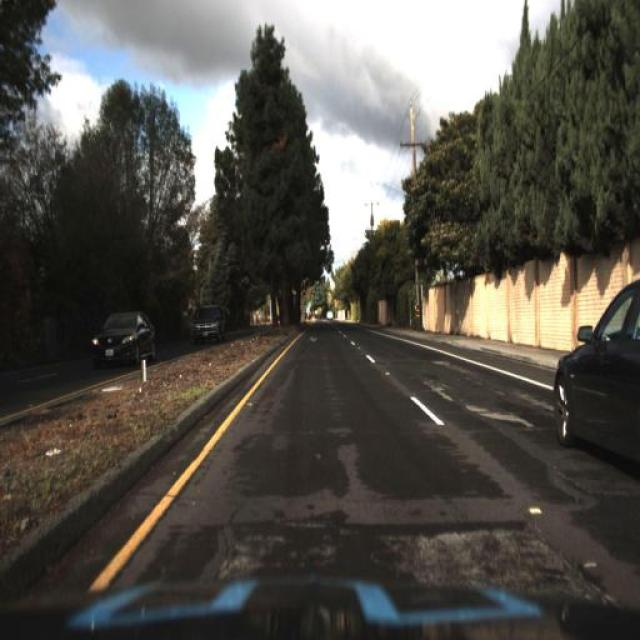car: (552, 274, 638, 458), (84, 305, 156, 375), (90, 308, 159, 378), (193, 306, 219, 340)
